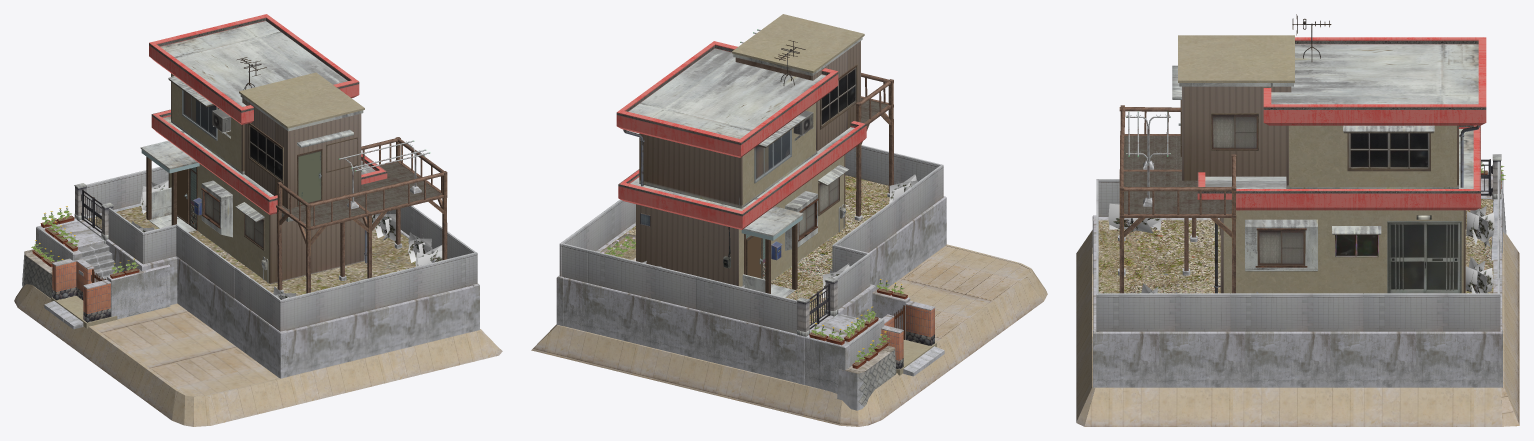
Rendered from houseset07.fbx.
3 views of the same model, side by side, from view 1: azimuth 30°, elevation 25°; view 2: azimuth 150°, elevation 25°; view 3: azimuth 270°, elevation 25° (orthographic). The views are drawn at different scales.
Parts seen in each view (by area): view 1: houseset07; view 2: houseset07; view 3: houseset07.
Boxes of the visible parts, box(x1,y1,x2,y2) form: houseset07: box(14, 14, 502, 426); houseset07: box(531, 14, 1047, 426); houseset07: box(1076, 14, 1519, 426).
Bounding box in the file's own units: 1201 × 1191 × 943.
20 materials, 20 textured.
